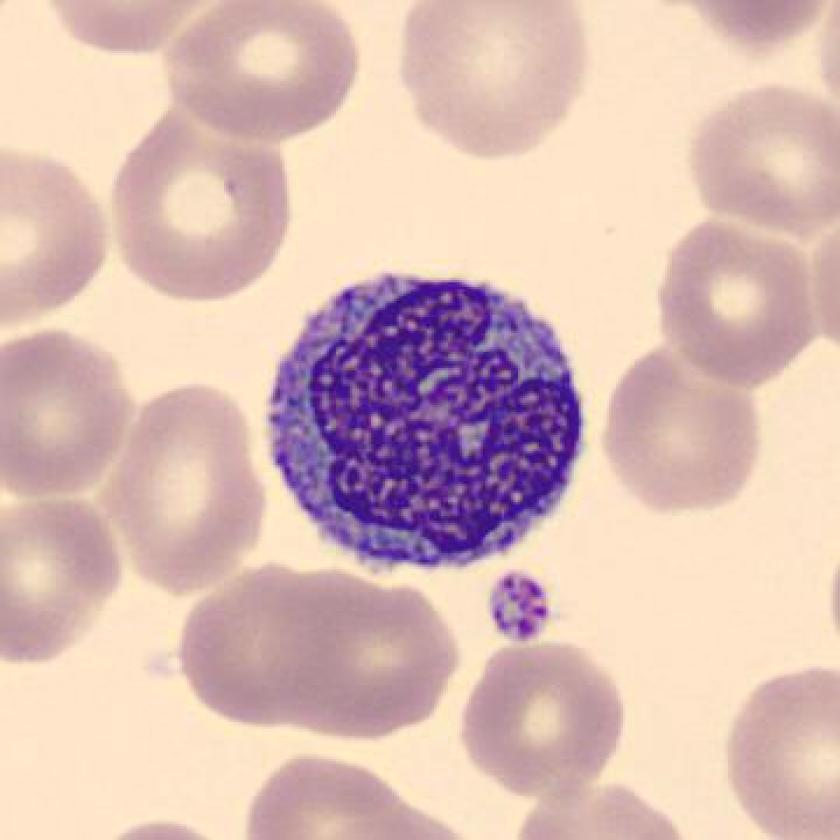monocyte: (244, 237, 605, 591)
